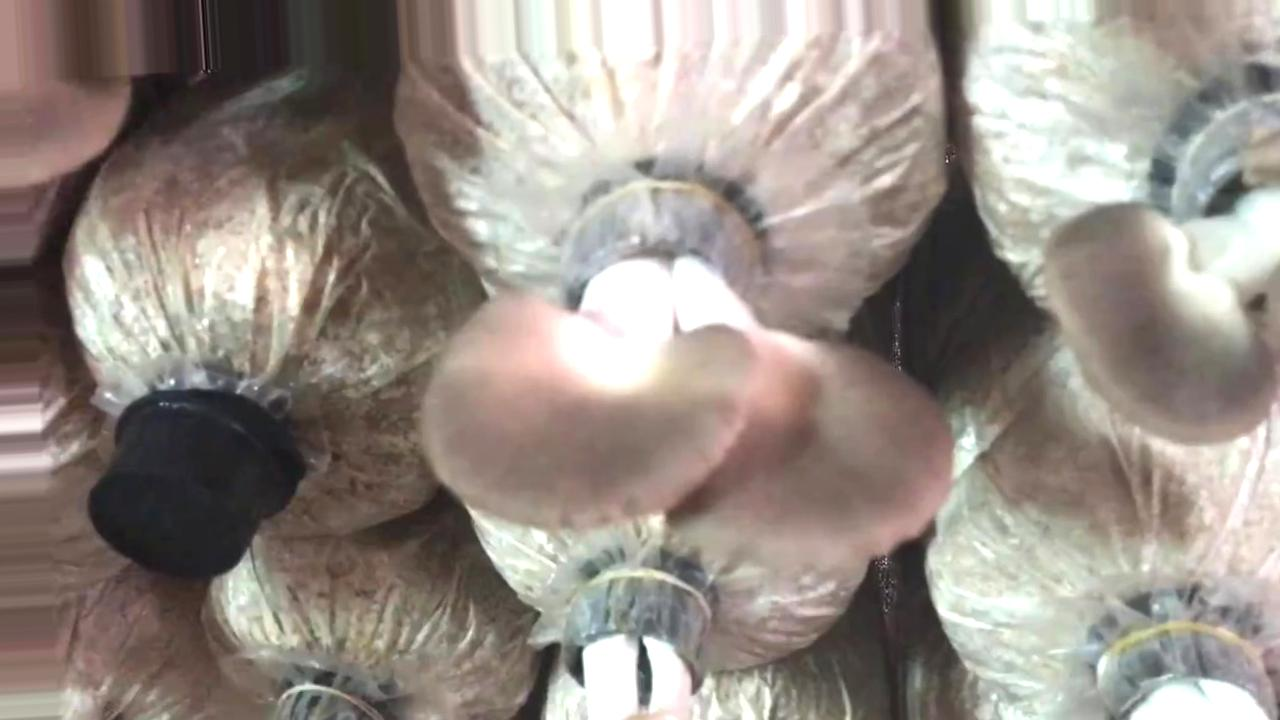nam: (418, 164, 960, 581), (1038, 91, 1280, 455)
